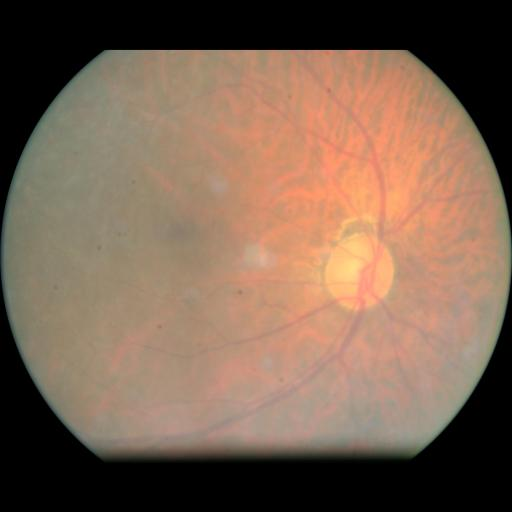Optic Disc: (326, 233, 394, 310)
